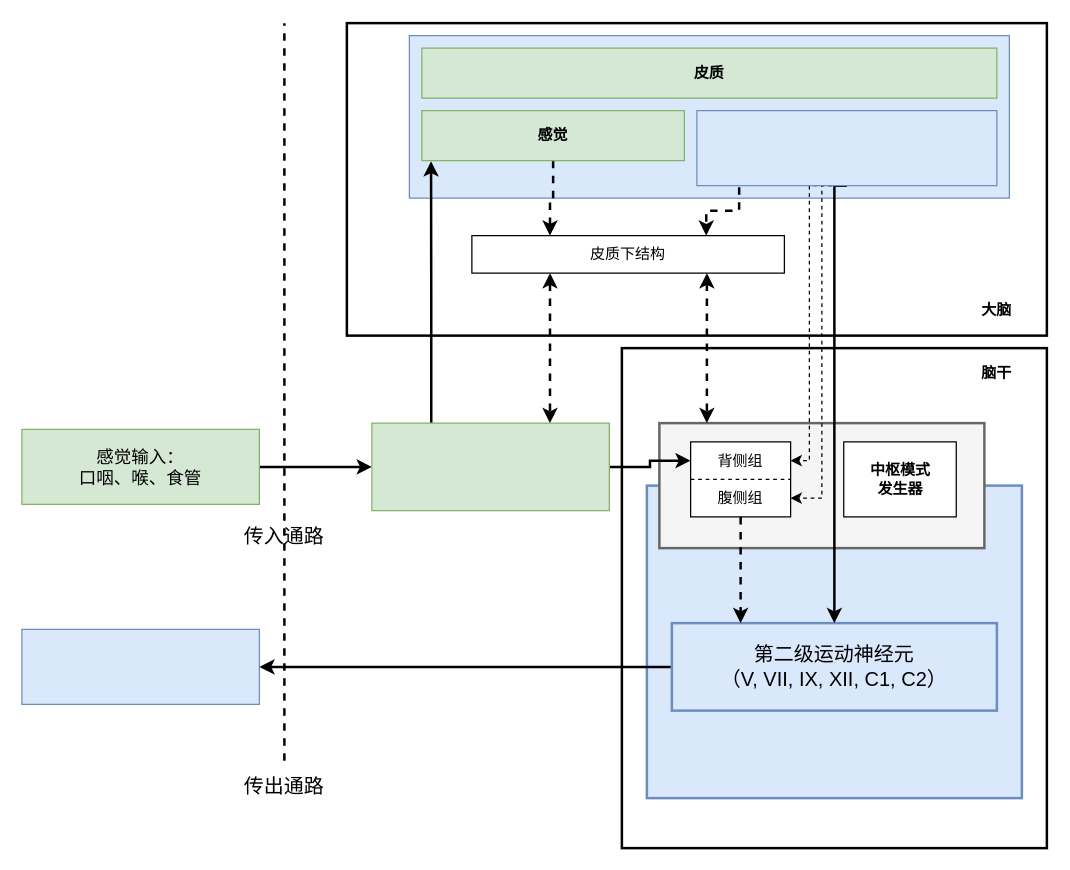
This 1070x870 diagram has some shape labels left out. The shapes that lost their labels are listed below. From the top down, each one's box as (x1, y1, x2, y2) in pixels, then its label:
(696, 109, 997, 186): 运动 第一级运动神经元
(371, 422, 609, 511): 感觉神经： (V, VII, IX, X)
(620, 346, 1048, 849): 运动神经核
(21, 628, 259, 704): 运动输出： 口咽吞咽反应
